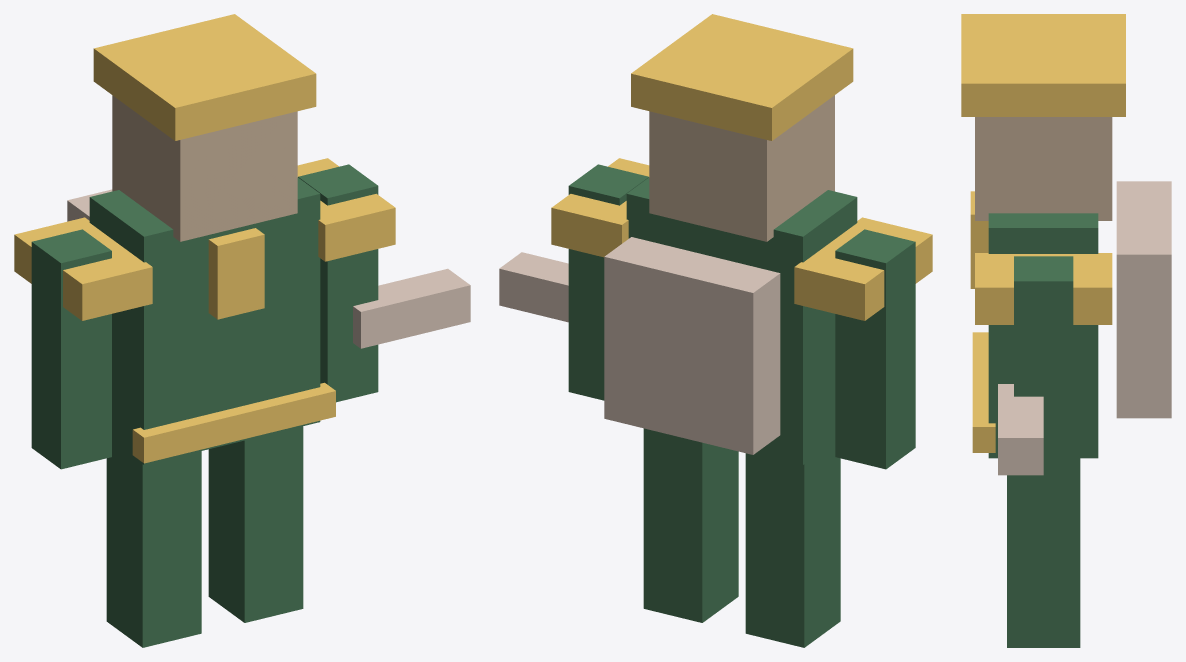
File: 12_lyric_cinderholt_smith_under_veilwalk.glb
3 renders of one model, left to right at view 1: azimuth 30°, elevation 25°; view 2: azimuth 150°, elevation 25°; view 3: azimuth 270°, elevation 25°, orthographic.
Parts seen in each view (by area): view 1: Lyric Cinderholt, Smith under Veilwalk; view 2: Lyric Cinderholt, Smith under Veilwalk; view 3: Lyric Cinderholt, Smith under Veilwalk.
Boxes of the visible parts, x1,y1,x2,y2 form: Lyric Cinderholt, Smith under Veilwalk: [14, 14, 470, 647]; Lyric Cinderholt, Smith under Veilwalk: [499, 14, 932, 647]; Lyric Cinderholt, Smith under Veilwalk: [961, 14, 1171, 647].
Size of the model in its own units: 1.1 by 1.45 by 0.4944.
